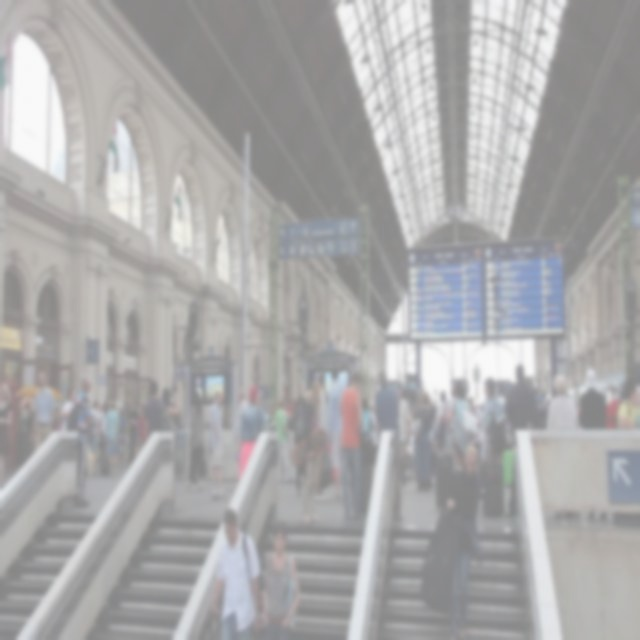pessoa: (442, 437, 486, 639), (210, 506, 262, 638), (502, 362, 536, 522), (577, 366, 608, 522), (262, 520, 302, 639), (374, 368, 404, 524), (300, 377, 330, 524), (338, 369, 366, 524), (64, 372, 94, 510), (325, 362, 348, 502), (479, 376, 507, 470), (184, 387, 209, 492), (444, 378, 472, 471), (208, 387, 229, 502), (314, 369, 332, 502), (413, 389, 434, 494), (30, 368, 56, 452), (545, 373, 581, 431), (291, 379, 308, 497), (605, 373, 639, 431), (394, 382, 412, 490), (239, 383, 272, 441), (358, 396, 376, 499), (233, 388, 249, 484), (274, 394, 290, 486), (0, 382, 13, 489), (444, 381, 460, 464), (144, 378, 166, 438), (103, 398, 121, 471), (58, 384, 78, 434), (532, 386, 552, 434), (127, 398, 141, 466), (88, 397, 102, 463), (161, 387, 180, 432), (408, 408, 417, 480), (117, 406, 128, 464), (367, 400, 380, 447), (136, 401, 149, 447), (434, 388, 447, 433), (478, 428, 491, 472), (16, 392, 30, 428), (98, 399, 110, 437), (468, 394, 481, 420), (54, 396, 63, 432), (303, 388, 312, 404), (460, 382, 468, 398)
